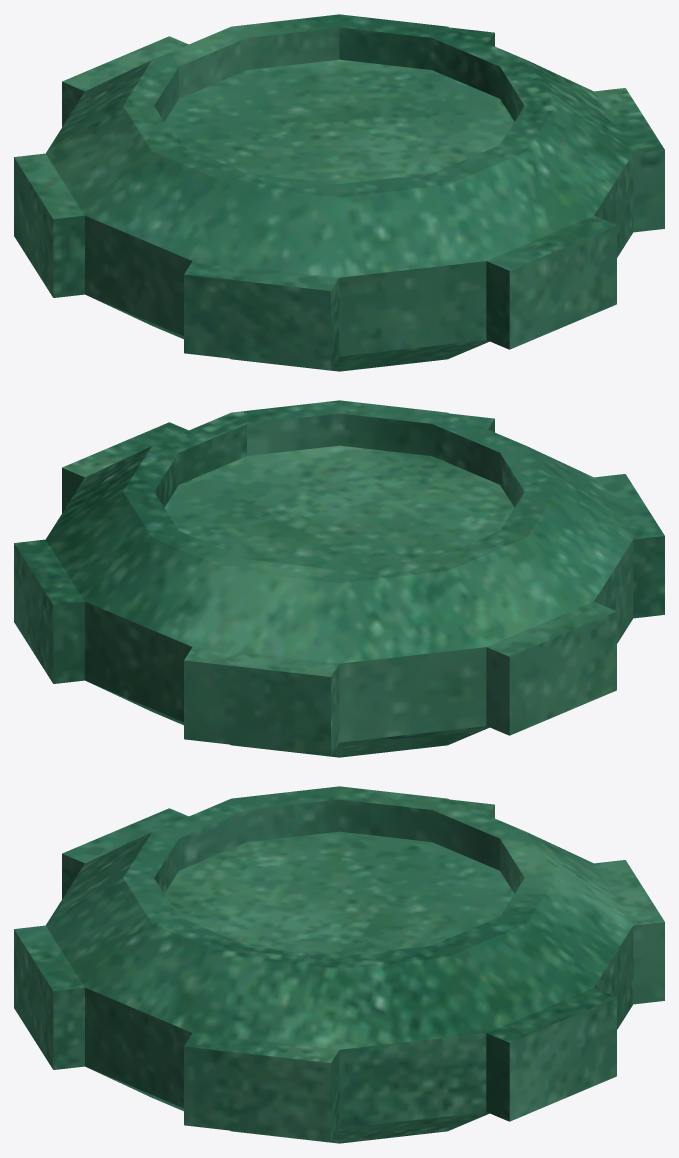
File: ai_attack_unit_01.obj
3 renders of one model, top to bottom at view 1: azimuth 30°, elevation 25°; view 2: azimuth 150°, elevation 25°; view 3: azimuth 270°, elevation 25°, orthographic.
Visible parts, largest first — view 1: ai_attack_unit_01; view 2: ai_attack_unit_01; view 3: ai_attack_unit_01.
Part boxes in pixels (x1,y1,x2,y2): ai_attack_unit_01: (14,14,664,371); ai_attack_unit_01: (14,400,664,757); ai_attack_unit_01: (14,786,664,1143).
Size of the model in its own units: 252 by 74.54 by 252.
